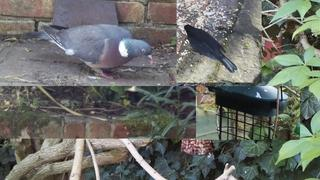blackbird: (184, 24, 238, 73)
wood pigeon: (24, 24, 153, 80)
